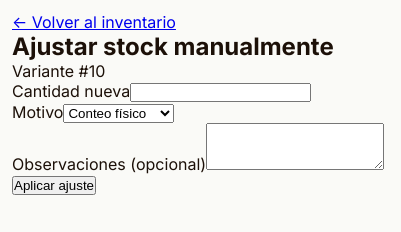
Test: AdminInventoryAdjustPage (UC-INV-04) › muestra error si el backend rechaza con STOCK_NEGATIVO_NO_PERMITIDO
The image size is (401, 232).
Type "0" into the number field labelled "Cantidad nueva" at point(221, 92), box [130, 83, 311, 102]
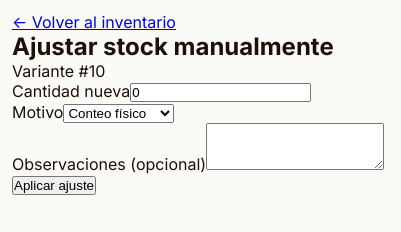
Click the button "Aplicar ajuste" at point(54, 186), box [12, 176, 96, 195]
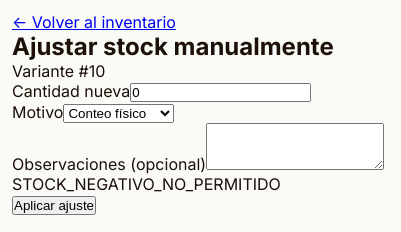
Now the text "STOCK_NEGATIVO_NO_PERMITIDO" is shown, box [12, 174, 281, 194]
